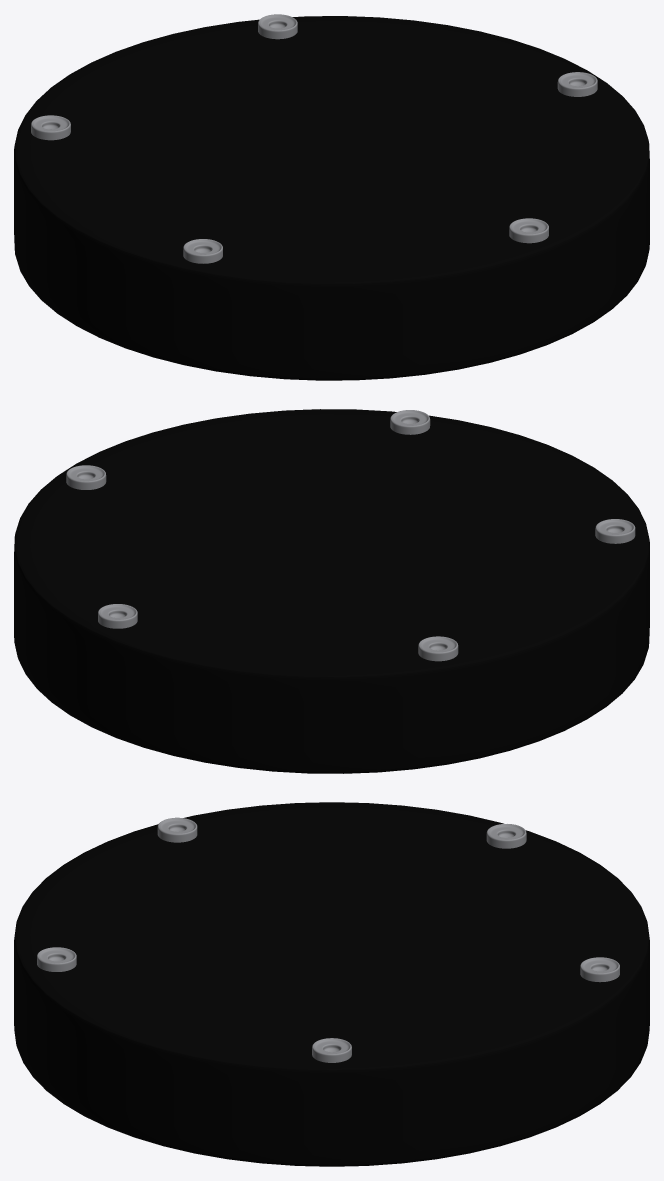
The model's file is rotating_light_platform_final.glb.
3 views of the same model, one above another, from view 1: azimuth 30°, elevation 25°; view 2: azimuth 150°, elevation 25°; view 3: azimuth 270°, elevation 25° (orthographic).
Parts seen in each view (by area): view 1: Rotating_Light_Platform1; view 2: Rotating_Light_Platform1; view 3: Rotating_Light_Platform1.
Part boxes in pixels (box(x1,y1,x2,y2)): Rotating_Light_Platform1: box(14, 14, 649, 380); Rotating_Light_Platform1: box(14, 409, 649, 773); Rotating_Light_Platform1: box(14, 802, 649, 1166).
Bounding box in the file's own units: 62.13 × 11.74 × 62.13.
Materials: 1 (1 with a texture image).
